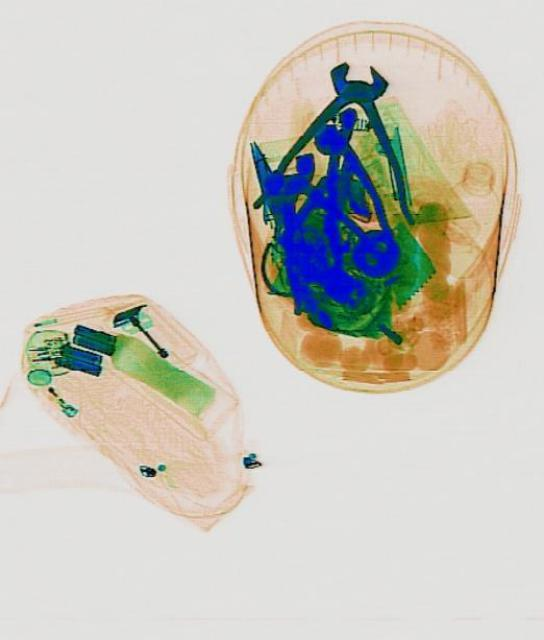Pliers: (252, 52, 426, 224)
